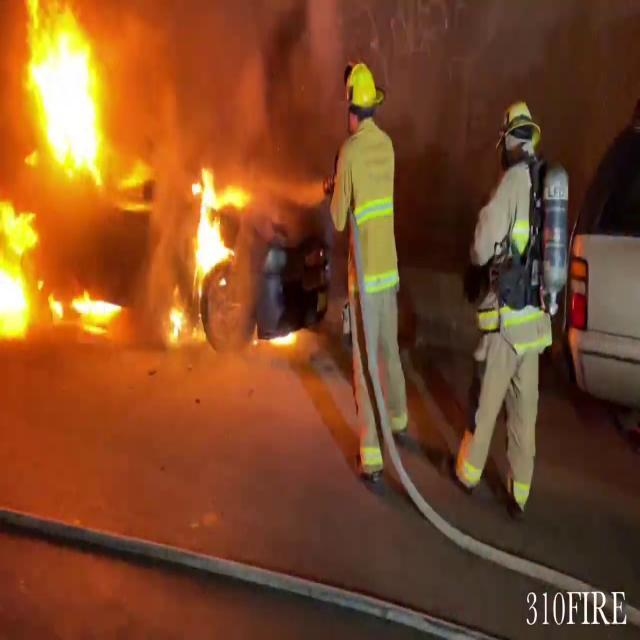Fire: (157, 166, 250, 347), (28, 4, 109, 183), (0, 192, 40, 342), (68, 280, 122, 339)
Smoke: (104, 0, 350, 177)
